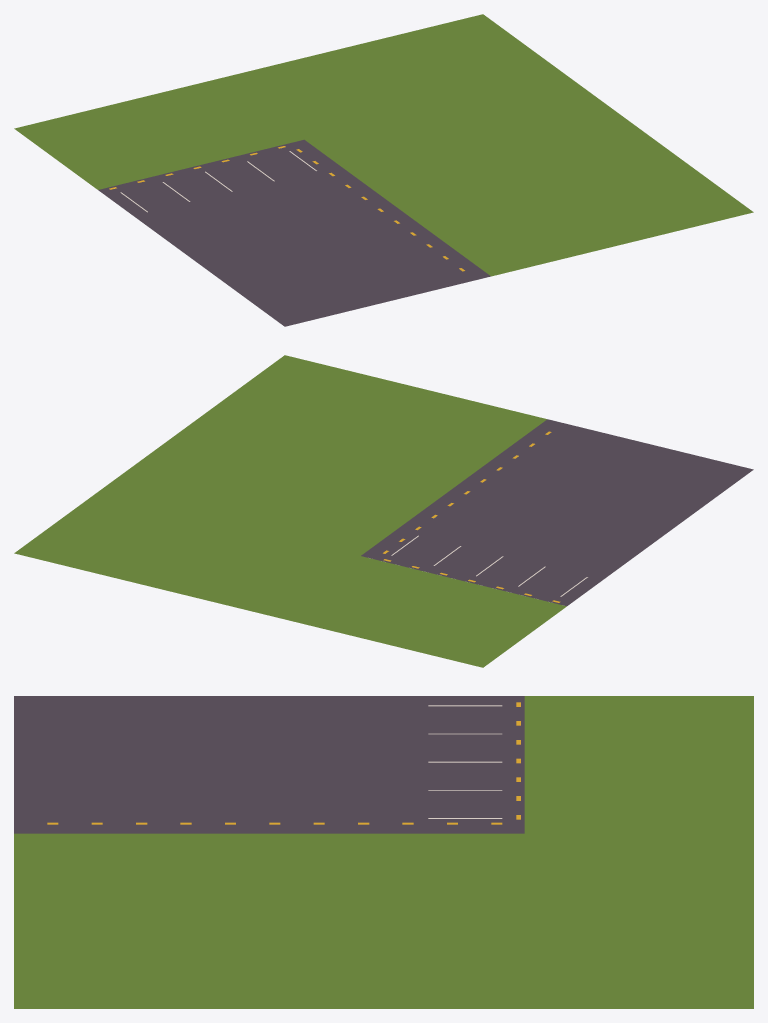
File: cure-35-1.glb
3 renders of one model, top to bottom at view 1: azimuth 30°, elevation 25°; view 2: azimuth 150°, elevation 25°; view 3: azimuth 270°, elevation 25°, orthographic. The views are drawn at different scales.
Visible parts, largest first — view 1: cure-35-1; view 2: cure-35-1; view 3: cure-35-1.
Part boxes in pixels (x1,y1,x2,y2): cure-35-1: (14, 14, 753, 326); cure-35-1: (14, 355, 753, 667); cure-35-1: (14, 696, 753, 1008).
Size of the model in its own units: 100 by 0.01 by 100.
